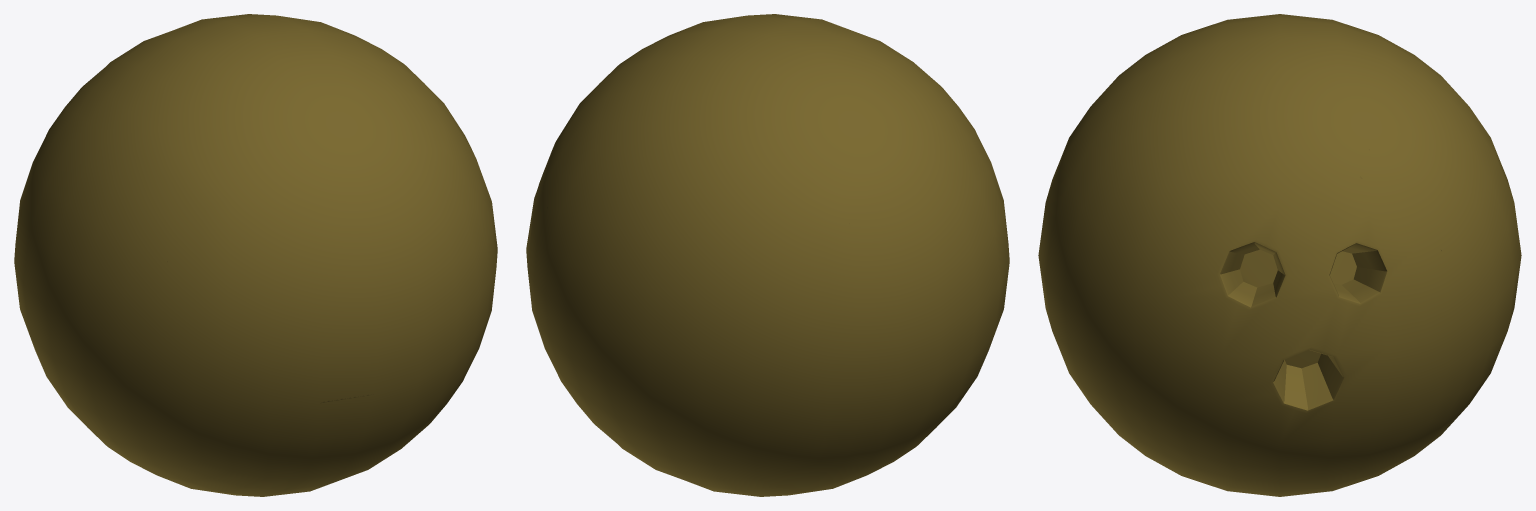
The model's file is gold embeded 1.fbx.
The picture shows the model from 3 angles, left to right: view 1: azimuth 30°, elevation 25°; view 2: azimuth 150°, elevation 25°; view 3: azimuth 270°, elevation 25°; orthographic projection.
Parts seen in each view (by area): view 1: Golden Ball; view 2: Golden Ball; view 3: Golden Ball.
Part boxes in pixels (x1,y1,x2,y2): Golden Ball: [14, 14, 497, 496]; Golden Ball: [526, 14, 1009, 496]; Golden Ball: [1038, 14, 1521, 496].
Bounding box in the file's own units: 64.27 × 64.5 × 64.5.
Materials: 1 (1 with a texture image).
